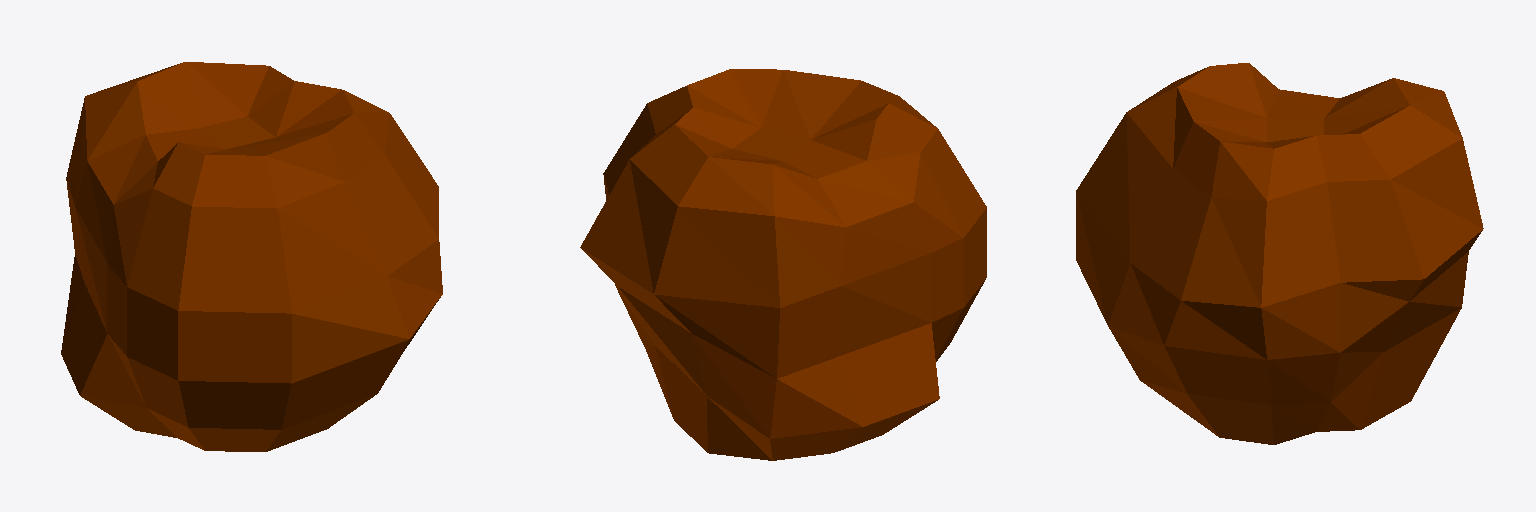
File: asteroid.obj
The picture shows the model from 3 angles: view 1: azimuth 30°, elevation 25°; view 2: azimuth 150°, elevation 25°; view 3: azimuth 270°, elevation 25°; orthographic projection.
Size of the model in its own units: 2.46 by 2 by 2.49.